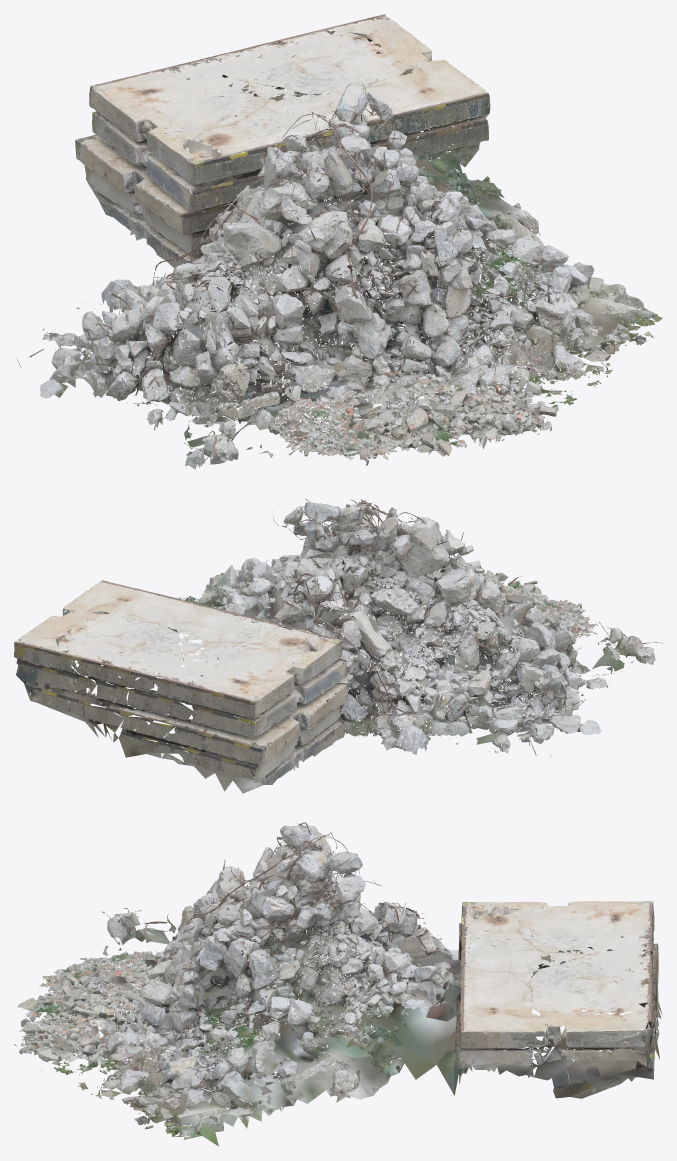
The model's file is concrete-rubble-pile-rebar.glb.
The picture shows the model from 3 angles, top to bottom: view 1: azimuth 30°, elevation 25°; view 2: azimuth 150°, elevation 25°; view 3: azimuth 270°, elevation 25°; orthographic projection. The views are drawn at different scales.
Visible parts, largest first — view 1: concrete_pile_concrete_pile_u1_v2_0 (×2), concrete_pile_concrete_pile_u1_v1_0 (×3), concrete_pile_concrete_pile_u2_v1_0 (×3), concrete_pile_concrete_pile_u2_v2_0 (×2); view 2: concrete_pile_concrete_pile_u1_v1_0 (×3), concrete_pile_concrete_pile_u1_v2_0 (×2), concrete_pile_concrete_pile_u2_v2_0 (×2), concrete_pile_concrete_pile_u2_v1_0 (×3); view 3: concrete_pile_concrete_pile_u2_v1_0 (×3), concrete_pile_concrete_pile_u1_v1_0 (×3), concrete_pile_concrete_pile_u1_v2_0 (×2), concrete_pile_concrete_pile_u2_v2_0 (×2).
Boxes of the visible parts, box(x1,y1,x2,y2) form: concrete_pile_concrete_pile_u1_v2_0 (×2): box(29, 115, 452, 466); concrete_pile_concrete_pile_u1_v1_0 (×3): box(75, 14, 655, 465); concrete_pile_concrete_pile_u2_v1_0 (×3): box(52, 64, 662, 458); concrete_pile_concrete_pile_u2_v2_0 (×2): box(16, 112, 459, 469); concrete_pile_concrete_pile_u1_v1_0 (×3): box(14, 499, 597, 793); concrete_pile_concrete_pile_u1_v2_0 (×2): box(255, 500, 653, 756); concrete_pile_concrete_pile_u2_v2_0 (×2): box(270, 500, 662, 757); concrete_pile_concrete_pile_u2_v1_0 (×3): box(68, 498, 648, 751); concrete_pile_concrete_pile_u2_v1_0 (×3): box(97, 823, 533, 1139); concrete_pile_concrete_pile_u1_v1_0 (×3): box(14, 850, 662, 1146); concrete_pile_concrete_pile_u1_v2_0 (×2): box(98, 824, 535, 1023); concrete_pile_concrete_pile_u2_v2_0 (×2): box(98, 822, 533, 1025).
Size of the model in its own units: 4.6 by 1.81 by 5.28.
4 materials, 4 textured.
